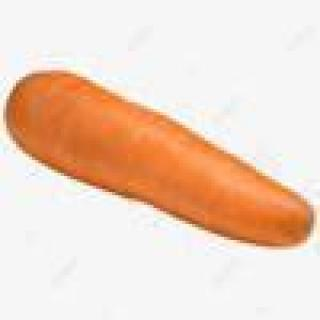Wortel: (1, 52, 311, 276)
